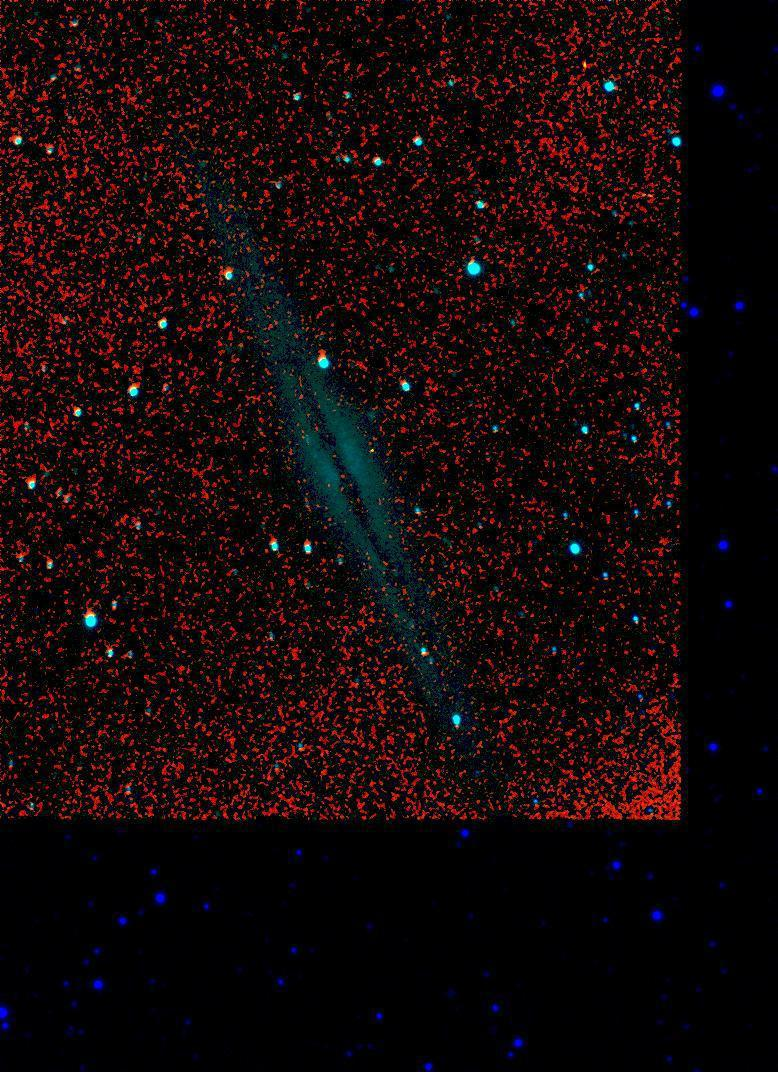star: (356, 431, 386, 461)
